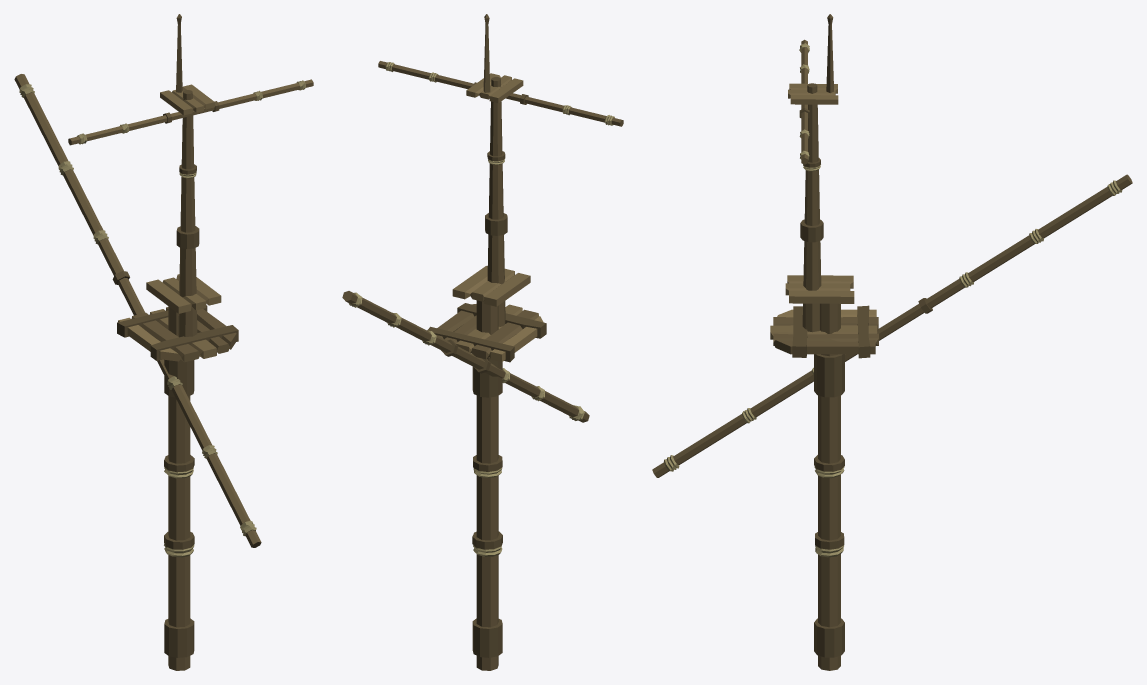
Rendered from LargeShip_3_Mast3.fbx.
3 views of the same model, side by side, from view 1: azimuth 30°, elevation 25°; view 2: azimuth 150°, elevation 25°; view 3: azimuth 270°, elevation 25° (orthographic).
Parts seen in each view (by area): view 1: LargeShip_3_Mast3; view 2: LargeShip_3_Mast3; view 3: LargeShip_3_Mast3.
Part boxes in pixels (box(x1,y1,x2,y2)): LargeShip_3_Mast3: box(14, 14, 313, 670); LargeShip_3_Mast3: box(342, 14, 623, 670); LargeShip_3_Mast3: box(652, 14, 1132, 670).
Size of the model in its own units: 718 by 1848 by 1235.
